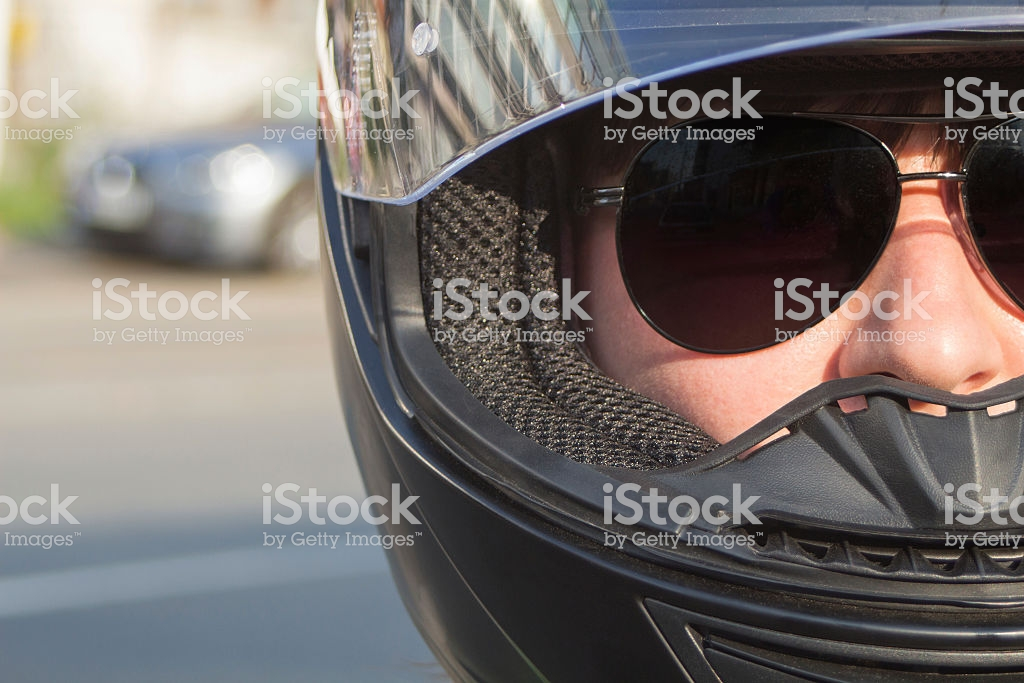helmet: (301, 14, 1013, 679)
